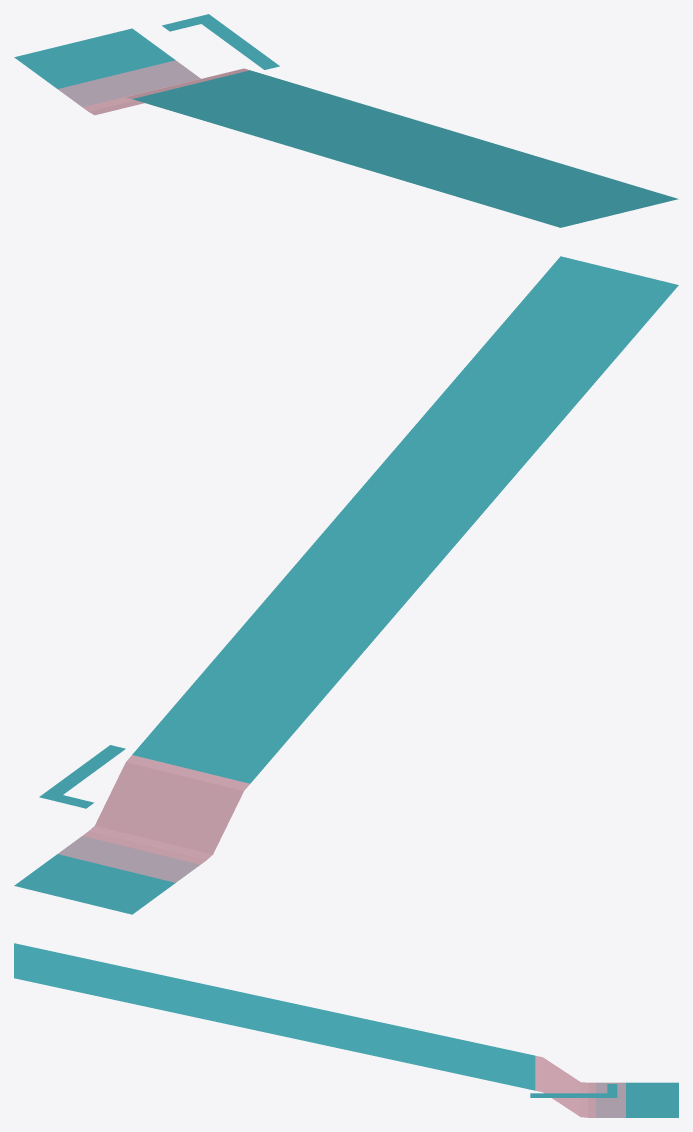
File: riviere.glb
3 views of the same model, one above another, from view 1: azimuth 30°, elevation 25°; view 2: azimuth 150°, elevation 25°; view 3: azimuth 270°, elevation 25° (orthographic). The views are drawn at different scales.
Parts seen in each view (by area): view 1: riviere; view 2: riviere; view 3: riviere.
Boxes of the visible parts, x1,y1,x2,y2 form: riviere: (14,14,678,227); riviere: (14,256,678,914); riviere: (14,943,678,1117).
Bounding box in the file's own units: 4.02 × 6.12 × 26.4.
